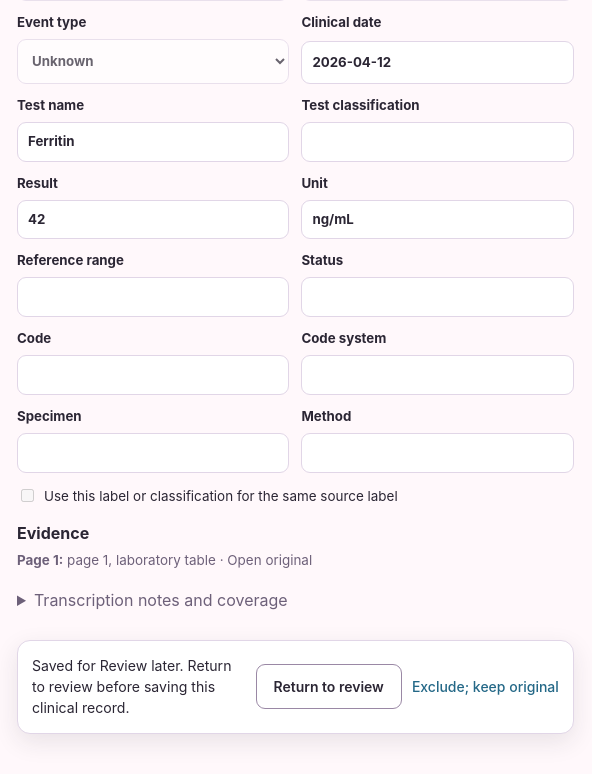
Test case: requires Return to review before a deep-linked review_later record can be saved
The image size is (592, 774).
(page scrolled)
Check: the button "Confirm and save record" is not shown
Click the button "Return to review" at (329, 687), box [256, 664, 402, 709]
(page scrolled)
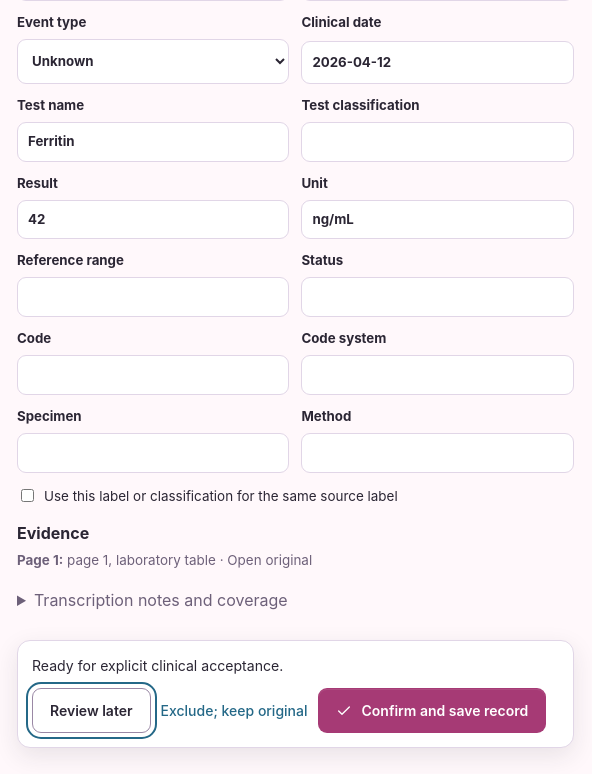
Check: the button "Confirm and save record" is enabled, box [318, 688, 546, 733]
